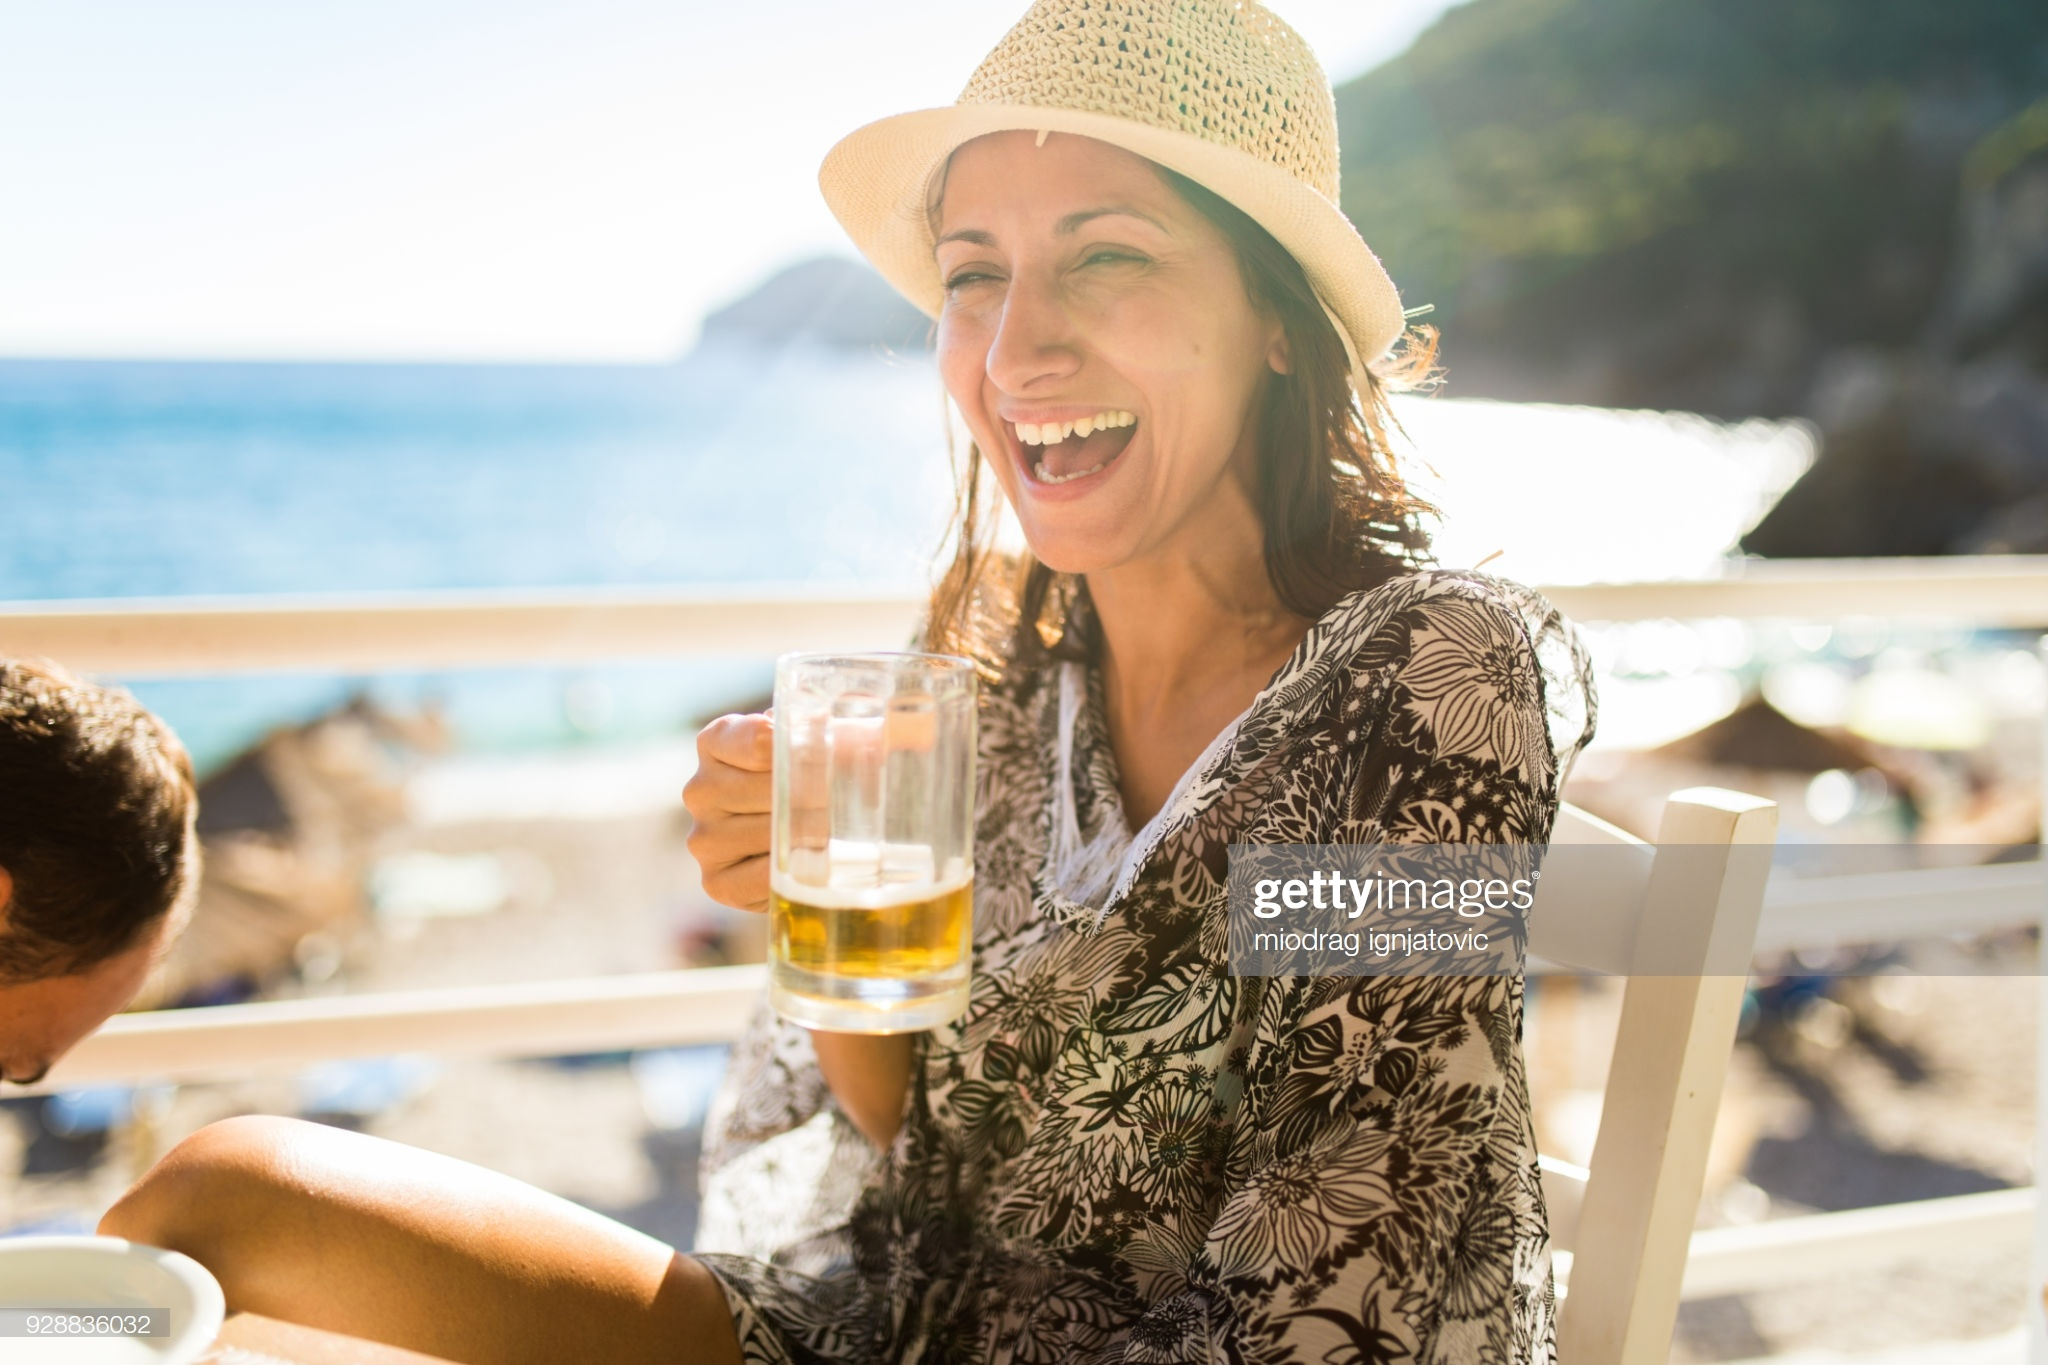glassBeer: (777, 651, 1006, 1021)
